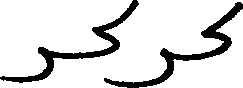ر: (0, 45, 54, 84), (137, 42, 174, 86)
ك: (91, 0, 137, 60), (199, 0, 241, 61)
